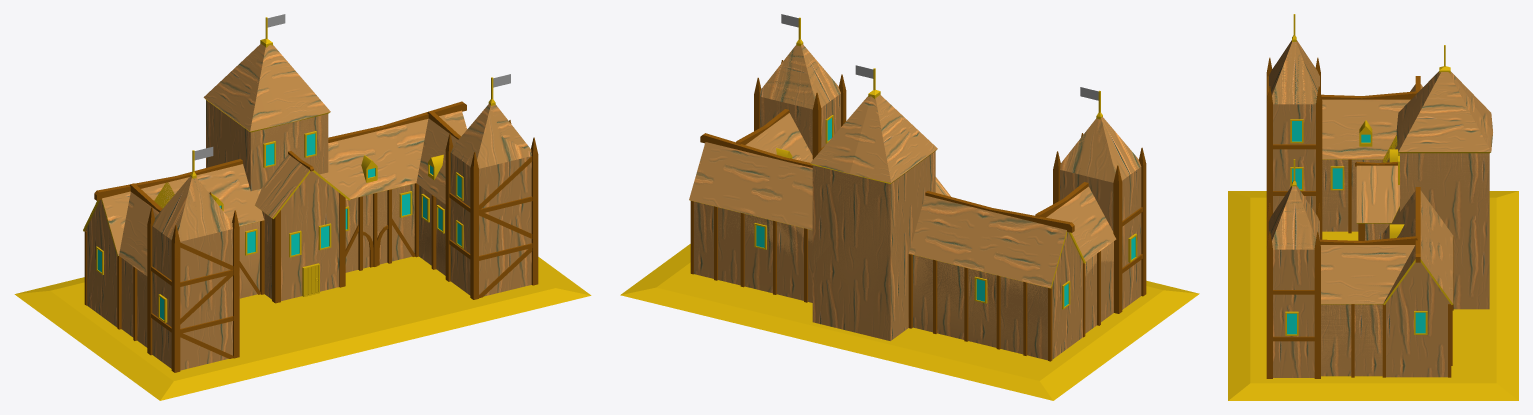
File: Townhall_FBX.fbx
3 views of the same model, side by side, from view 1: azimuth 30°, elevation 25°; view 2: azimuth 150°, elevation 25°; view 3: azimuth 270°, elevation 25° (orthographic).
Parts seen in each view (by area): view 1: IntactTownhall, Foundation, polySurface555, polySurface552, polySurface560, polySurface386, polySurface559, polySurface286, polySurface365, polySurface568, polySurface565, polySurface387 (+32 smaller); view 2: IntactTownhall, Foundation, polySurface552, polySurface575, polySurface583, polySurface576, polySurface385, polySurface370, polySurface415, polySurface384, polySurface375, polySurface553 (+34 smaller); view 3: Foundation, IntactTownhall, polySurface553, polySurface557, polySurface375, polySurface448, polySurface573, polySurface384, polySurface556, polySurface572, polySurface442, polySurface387 (+49 smaller).
Part boxes in pixels (x1,y1,x2,y2): IntactTownhall: [84, 101, 538, 372]; Foundation: [14, 256, 591, 400]; polySurface555: [250, 17, 330, 132]; polySurface552: [203, 44, 265, 131]; polySurface560: [342, 126, 402, 194]; polySurface386: [227, 115, 289, 180]; polySurface559: [397, 111, 466, 186]; polySurface286: [255, 154, 310, 218]; polySurface365: [152, 226, 205, 280]; polySurface568: [119, 192, 159, 267]; polySurface565: [101, 182, 174, 256]; polySurface387: [289, 114, 328, 173]; IntactTownhall: [689, 44, 1146, 359]; Foundation: [620, 244, 1199, 400]; polySurface552: [849, 95, 937, 183]; polySurface575: [988, 214, 1067, 288]; polySurface583: [689, 142, 768, 214]; polySurface576: [932, 200, 1001, 273]; polySurface385: [851, 211, 911, 286]; polySurface370: [851, 168, 911, 221]; polySurface415: [1009, 286, 1082, 345]; polySurface384: [812, 214, 851, 272]; polySurface375: [812, 165, 851, 217]; polySurface553: [810, 96, 870, 173]; Foundation: [1228, 191, 1518, 400]; IntactTownhall: [1266, 41, 1489, 378]; polySurface553: [1398, 72, 1492, 153]; polySurface557: [1320, 245, 1369, 304]; polySurface375: [1442, 153, 1489, 207]; polySurface448: [1386, 320, 1447, 360]; polySurface573: [1322, 99, 1359, 159]; polySurface384: [1442, 201, 1489, 254]; polySurface556: [1358, 245, 1415, 304]; polySurface572: [1357, 99, 1410, 159]; polySurface442: [1386, 278, 1450, 319]; polySurface387: [1400, 153, 1441, 211].
Bounding box in the file's own units: 26.61 × 14.8 × 15.57.
